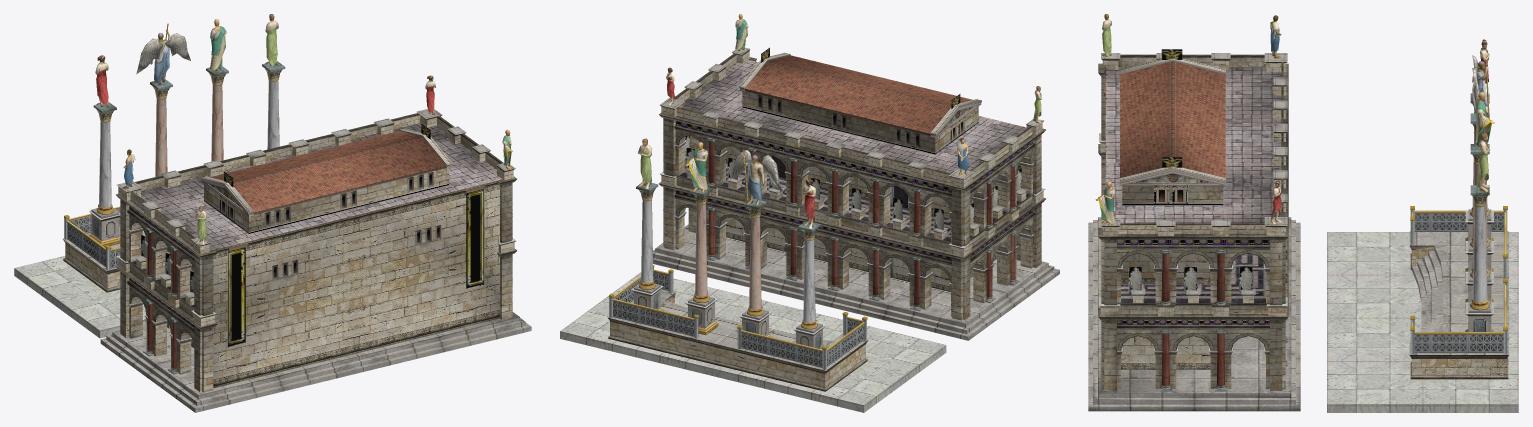
Rendered from rome_town_center.glb.
3 renders of one model, left to right at view 1: azimuth 30°, elevation 25°; view 2: azimuth 150°, elevation 25°; view 3: azimuth 270°, elevation 25°, orthographic. The views are drawn at different scales.
Parts seen in each view (by area): view 1: rome_town_center_part0, rome_town_center_part2, rome_town_center_part3, rome_town_center_part1; view 2: rome_town_center_part0, rome_town_center_part2, rome_town_center_part1, rome_town_center_part3; view 3: rome_town_center_part0, rome_town_center_part2, rome_town_center_part1, rome_town_center_part3.
Boxes of the visible parts, bbox=[...] form: rome_town_center_part0: bbox=[100, 109, 531, 412]; rome_town_center_part2: bbox=[14, 61, 285, 338]; rome_town_center_part3: bbox=[95, 14, 512, 245]; rome_town_center_part1: bbox=[67, 124, 430, 293]; rome_town_center_part0: bbox=[653, 47, 1059, 340]; rome_town_center_part2: bbox=[560, 183, 946, 412]; rome_town_center_part1: bbox=[613, 47, 1021, 367]; rome_town_center_part3: bbox=[637, 14, 1041, 229]; rome_town_center_part0: bbox=[1088, 53, 1300, 411]; rome_town_center_part2: bbox=[1327, 93, 1518, 412]; rome_town_center_part1: bbox=[1128, 49, 1503, 352]; rome_town_center_part3: bbox=[1095, 14, 1494, 225].
Size of the model in its own units: 6.2 by 4.04 by 6.13.
Materials: 2 (2 with a texture image).
